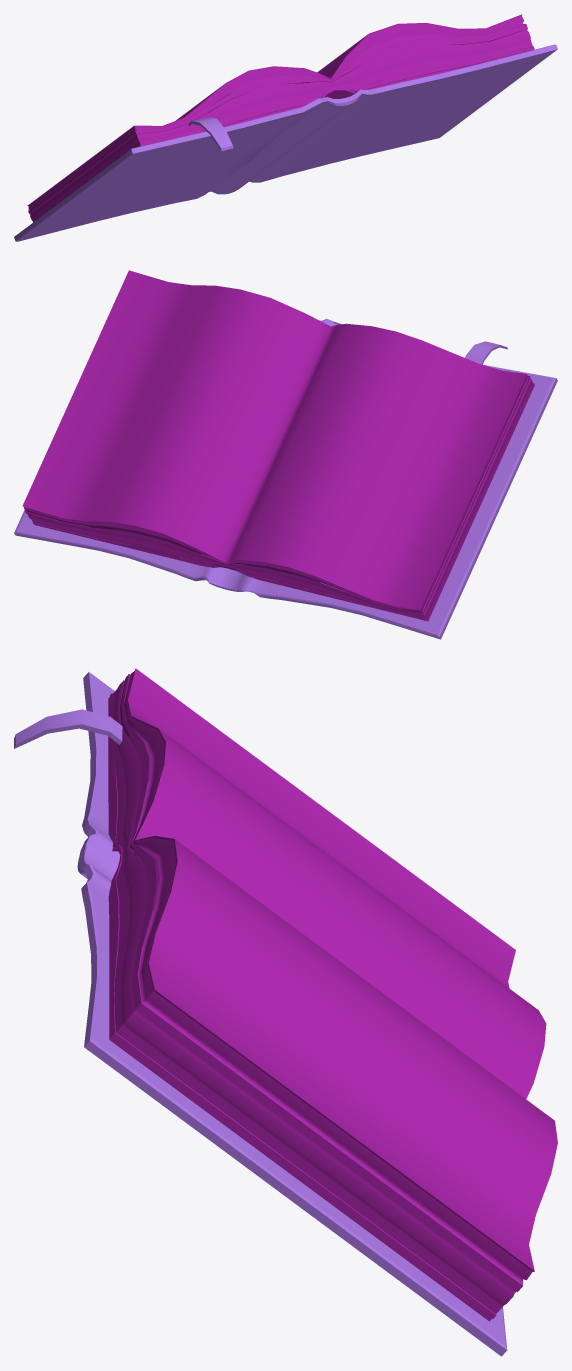
The model's file is Friday_CookBook.fbx.
The picture shows the model from 3 angles, top to bottom: view 1: azimuth 30°, elevation 25°; view 2: azimuth 150°, elevation 25°; view 3: azimuth 270°, elevation 25°; orthographic projection. The views are drawn at different scales.
Parts seen in each view (by area): view 1: Cover, Pages, BookMark; view 2: Pages, Cover, BookMark; view 3: Pages, Cover, BookMark.
Boxes of the visible parts, x1,y1,x2,y2 form: Cover: (14, 44, 557, 241); Pages: (27, 14, 534, 222); BookMark: (188, 117, 233, 150); Pages: (22, 270, 534, 621); Cover: (14, 319, 557, 639); BookMark: (465, 341, 507, 364); Pages: (108, 668, 557, 1321); Cover: (77, 672, 507, 1356); BookMark: (14, 709, 122, 748).
Bounding box in the file's own units: 399 × 194 × 248.
